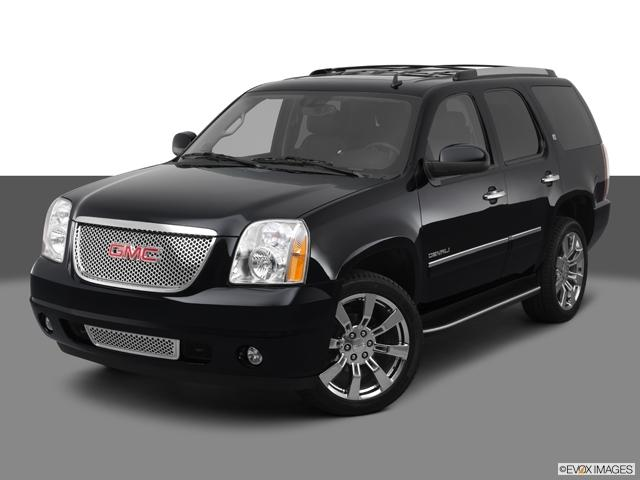GMC: (105, 236, 167, 272)
